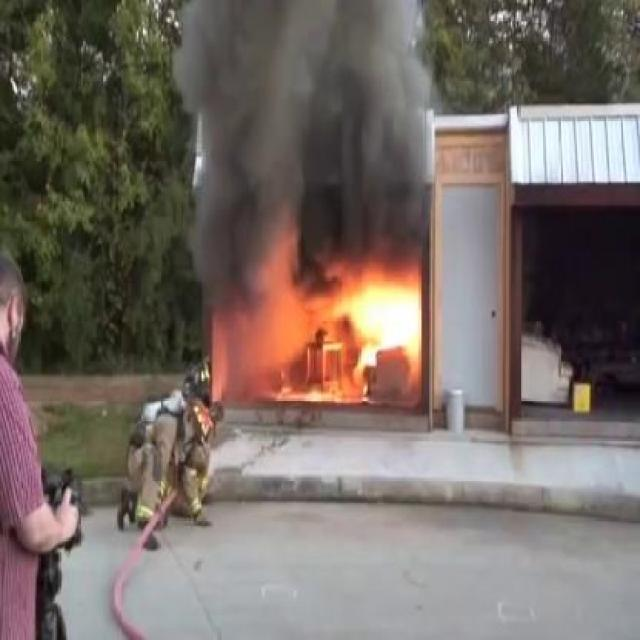fire: (332, 293, 422, 381)
smoke: (174, 5, 440, 288)
